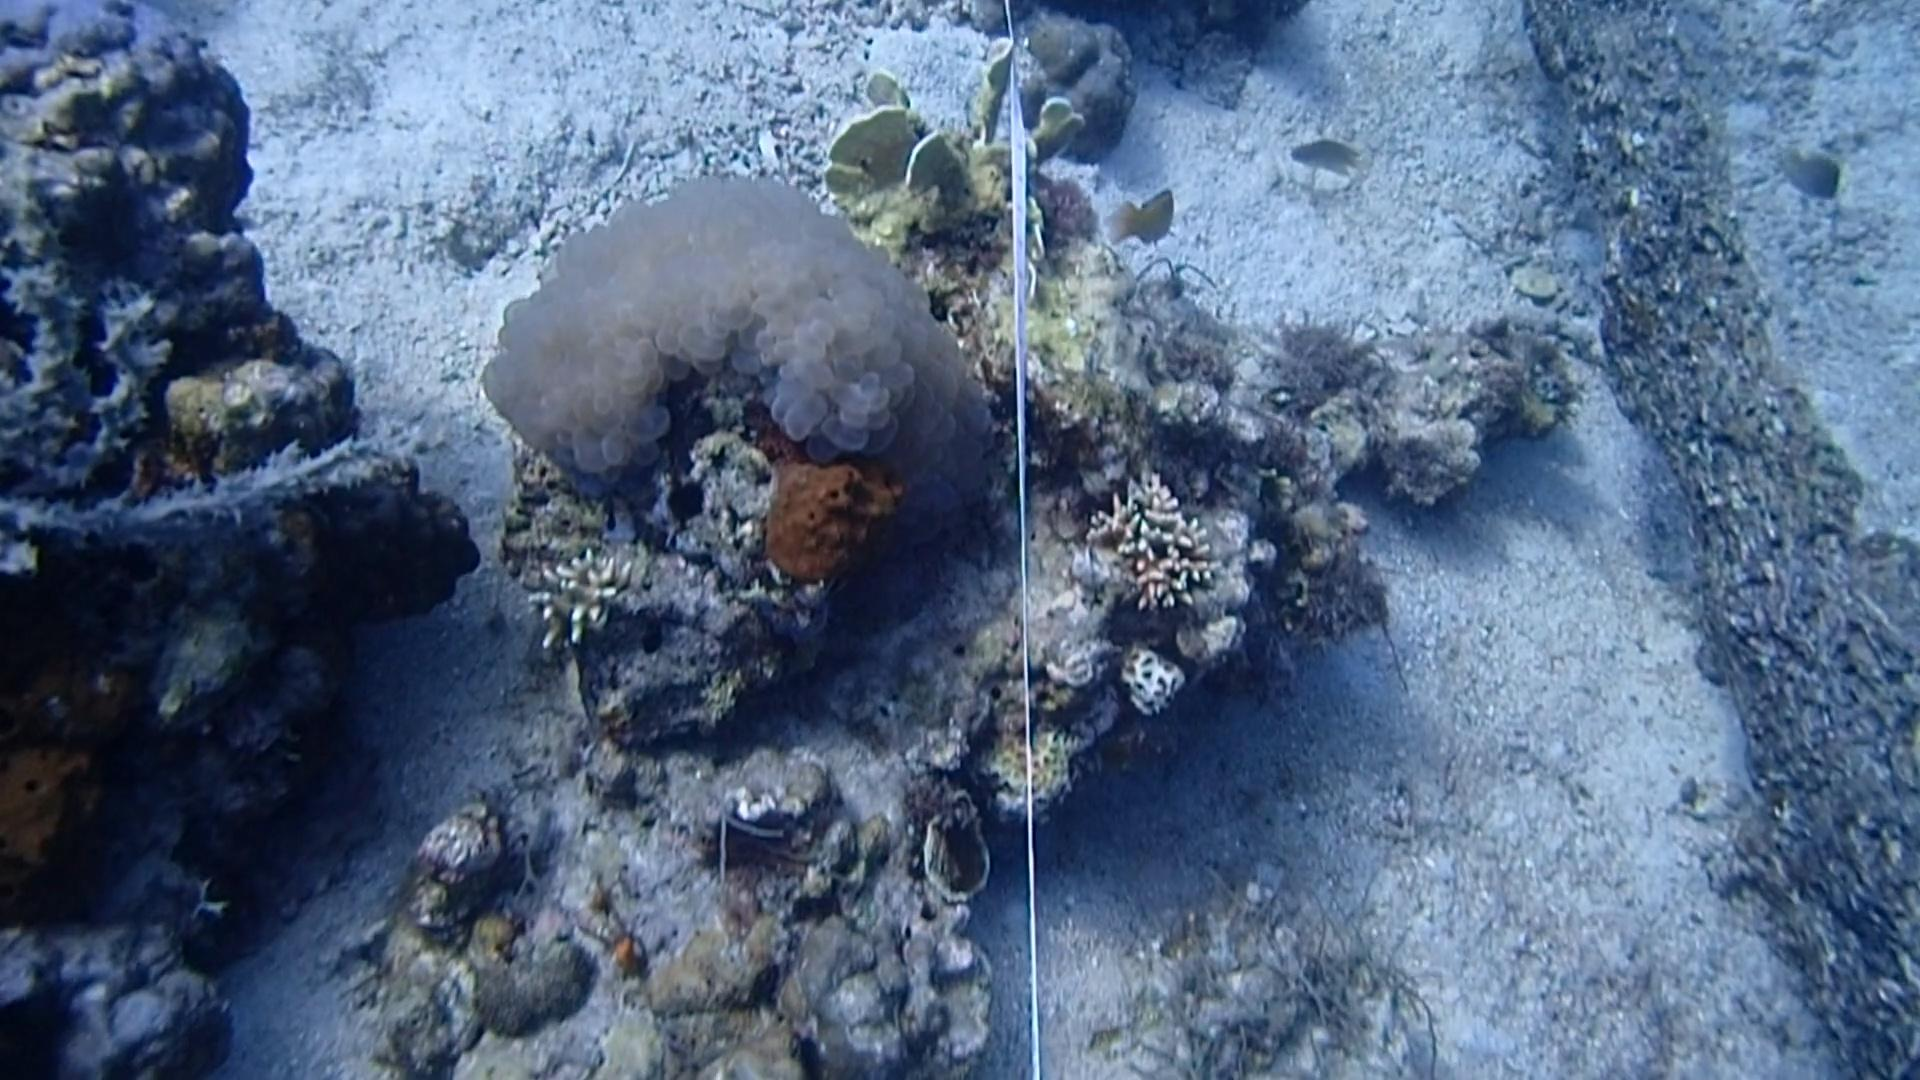Light Fish: (1766, 136, 1863, 206), (1279, 123, 1367, 183)
Yellow-Blue Fish: (1098, 186, 1187, 253)
